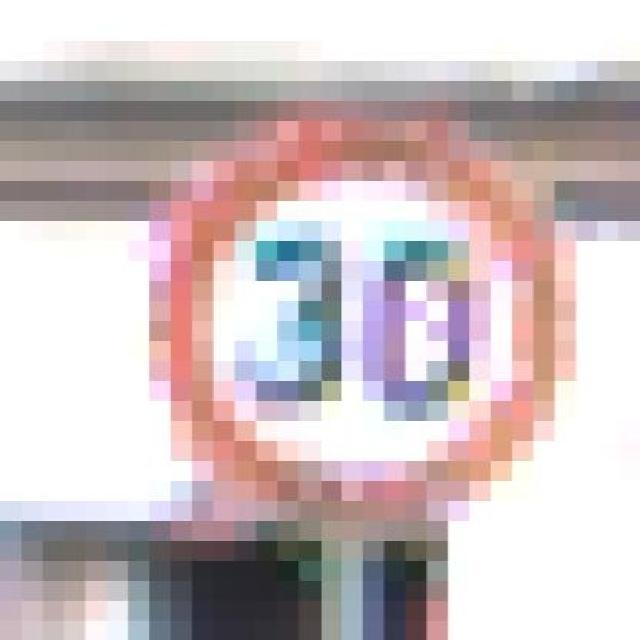forb_speed_over_30: (154, 122, 557, 516)
